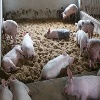heo: (63, 75, 100, 100), (41, 51, 74, 78), (1, 43, 24, 73), (10, 76, 31, 100), (1, 18, 19, 42), (43, 27, 72, 41), (61, 2, 80, 23), (87, 38, 100, 68), (22, 32, 37, 57), (74, 29, 87, 54), (76, 19, 95, 32), (1, 78, 11, 100)
